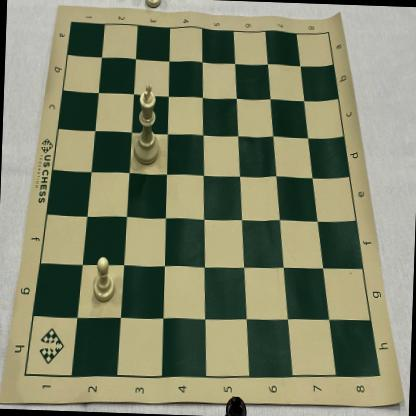white-king: (131, 80, 164, 168)
white-pawn: (88, 251, 119, 307)
